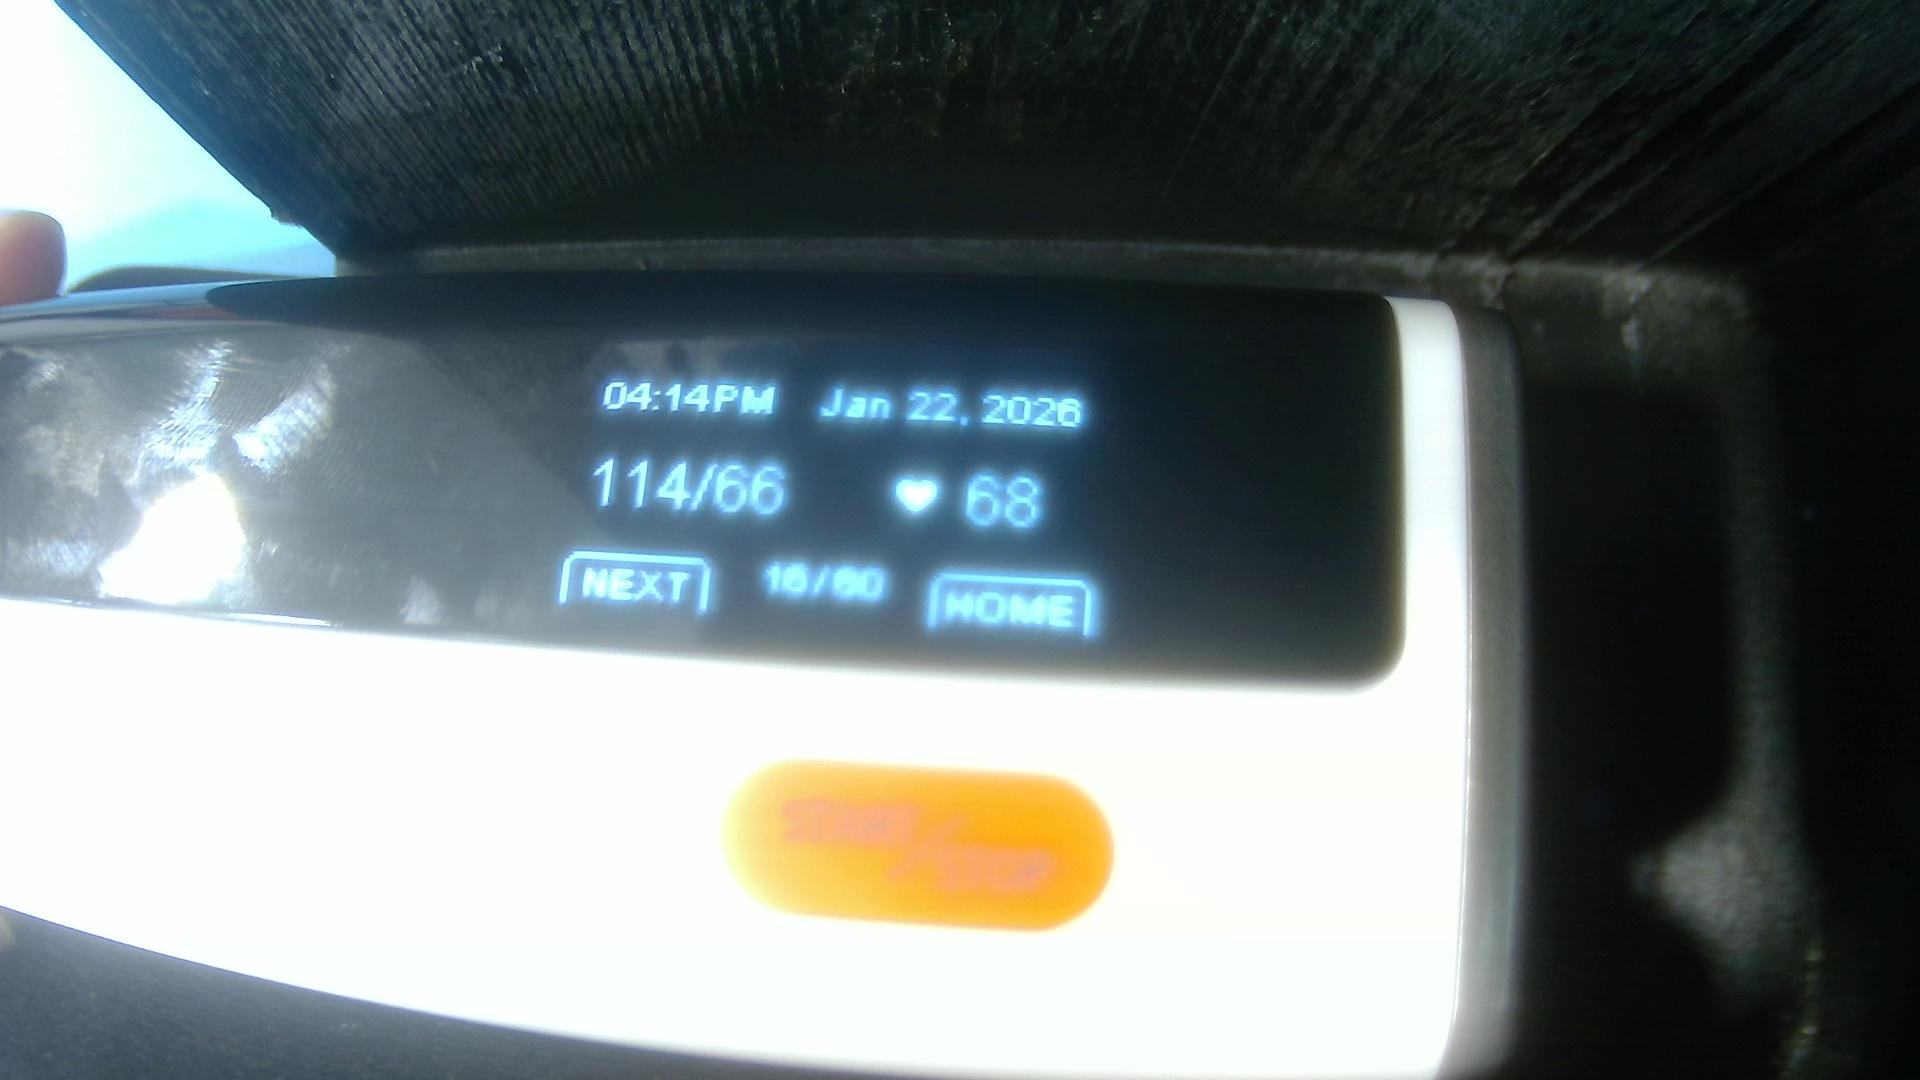DISPLAY: (5, 293, 1375, 690)
